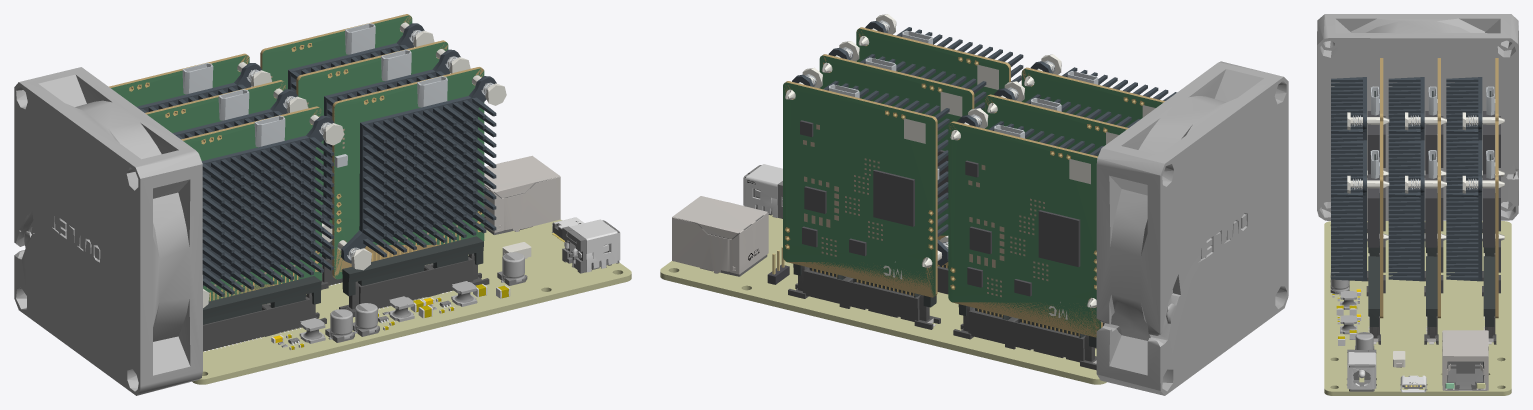
Rendered from mci-845-eda-assembly-140x65-7020.glb.
The picture shows the model from 3 angles, left to right: view 1: azimuth 30°, elevation 25°; view 2: azimuth 150°, elevation 25°; view 3: azimuth 270°, elevation 25°; orthographic projection. The views are drawn at different scales.
Parts seen in each view (by area): view 1: mtl37, mtl31, mtl29, mtl53, mtl14, mtl35, mtl33, mtl2, mtl28, mtl32, mtl12, mtl22 (+3 smaller); view 2: mtl29, mtl37, mtl53, mtl14, mtl28, mtl31, mtl34, mtl2, mtl32, mtl33, mtl36, mtl11 (+2 smaller); view 3: mtl31, mtl37, mtl53, mtl34, mtl28, mtl35, mtl32, mtl33, mtl2, mtl4, mtl11, mtl12 (+6 smaller).
Part boxes in pixels (x1,y1,x2,y2): mtl37: (14,67,202,395); mtl31: (136,23,496,296); mtl29: (111,15,484,301); mtl53: (192,219,631,384); mtl14: (203,253,489,351); mtl35: (203,236,483,324); mtl33: (182,23,493,260); mtl2: (484,155,560,254); mtl28: (109,14,483,300); mtl32: (203,22,506,307); mtl12: (279,220,619,345); mtl22: (278,252,524,347); mtl29: (783,28,1162,336); mtl37: (1096,61,1288,395); mtl53: (660,215,1106,384); mtl14: (788,266,1104,370); mtl28: (783,27,1164,337); mtl31: (792,21,1176,265); mtl34: (800,120,1080,296); mtl2: (672,196,768,274); mtl32: (785,14,1155,319); mtl33: (805,20,1098,248); mtl36: (803,124,1048,297); mtl11: (743,164,782,217); mtl31: (1331,77,1482,281); mtl37: (1317,14,1518,220); mtl53: (1324,221,1511,395); mtl34: (1367,111,1500,293); mtl28: (1380,58,1498,318); mtl35: (1368,91,1495,326); mtl32: (1347,112,1504,241); mtl33: (1351,86,1495,189); mtl2: (1396,330,1488,390); mtl4: (1445,361,1484,389); mtl11: (1347,300,1376,389); mtl12: (1330,273,1376,391).
Bounding box in the file's own units: 0.1611 × 0.074 × 0.07.
